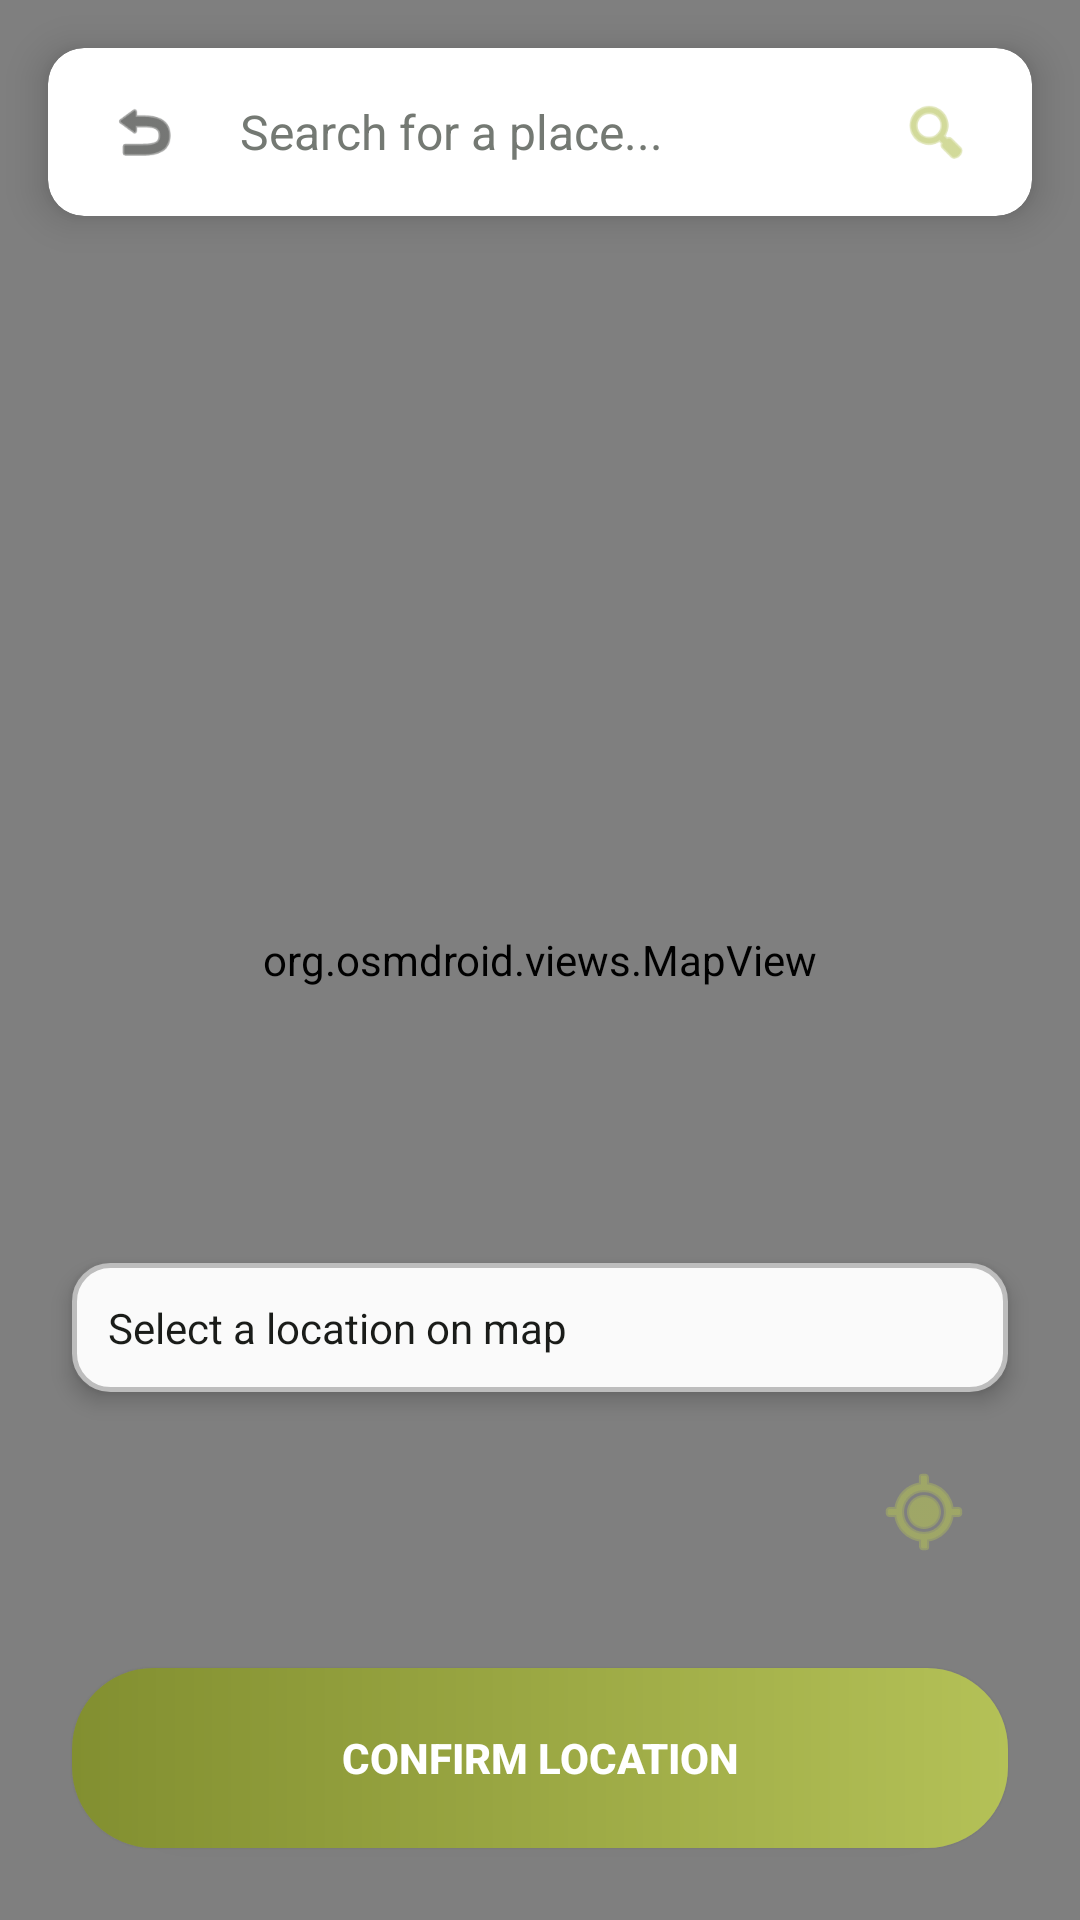

Locate icon controls on the screen. Image size 1080px x 1920px, boxes as [x1,y1,x2,y2].
mylocation: [886,1474,962,1550]
revert: [119,109,171,156]
